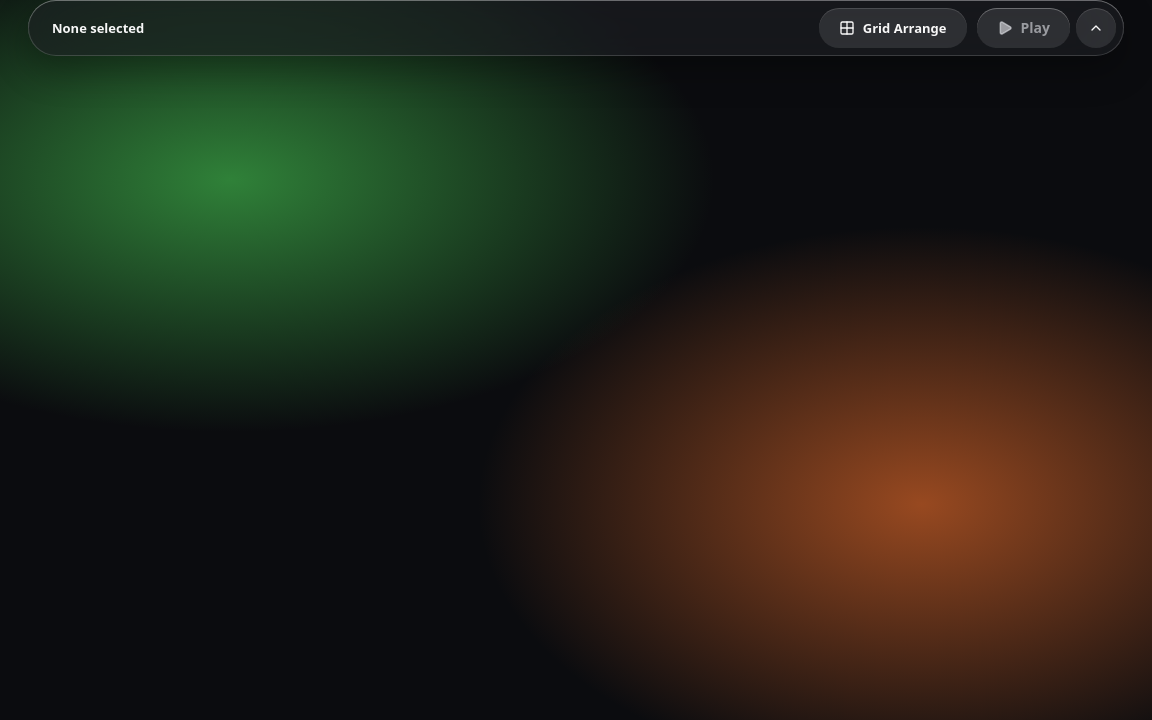
Test: Play once: Escape and outside clicks close it
Click the button named "Play once at…" at coordinates (1096, 28), box [1076, 8, 1116, 48]
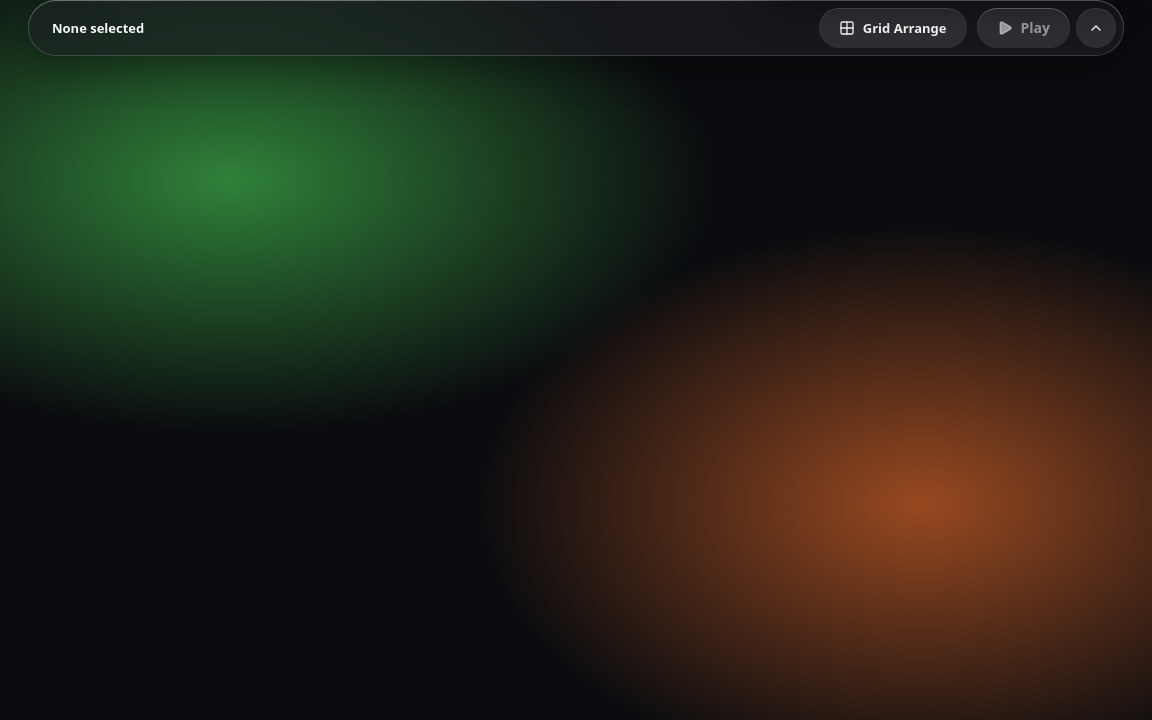
Press Escape
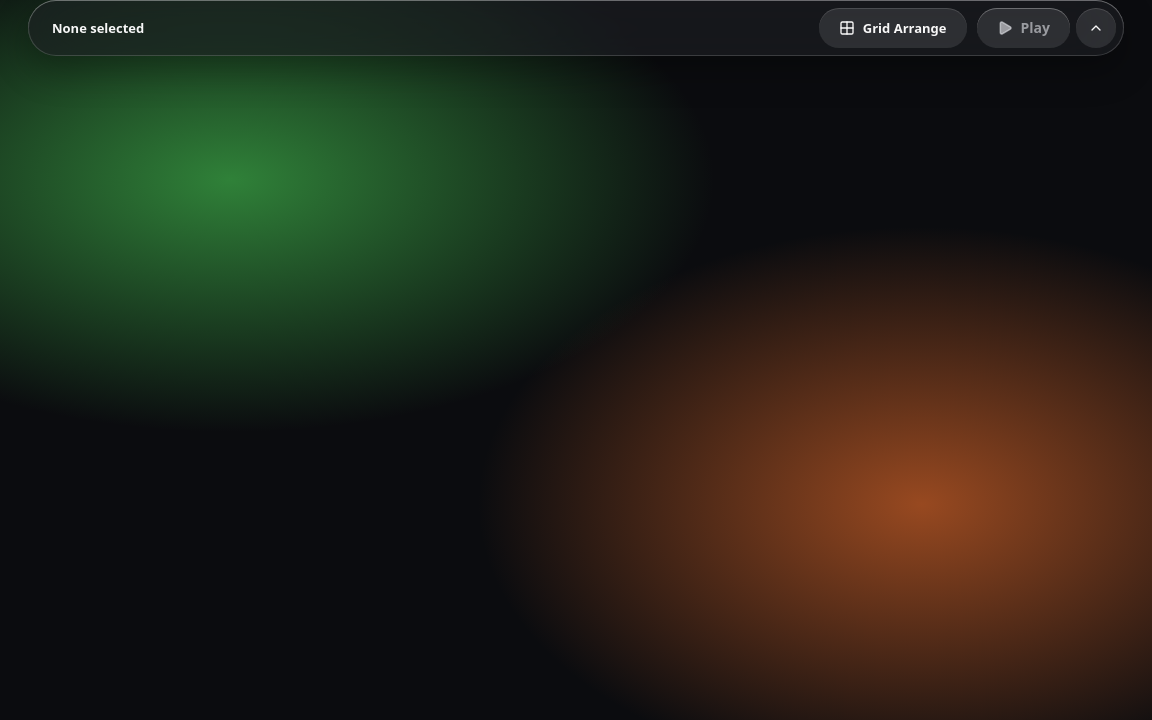
Result: the dialog "Play once at…" is gone
Click the button named "Play once at…" at coordinates (1096, 28), box [1076, 8, 1116, 48]
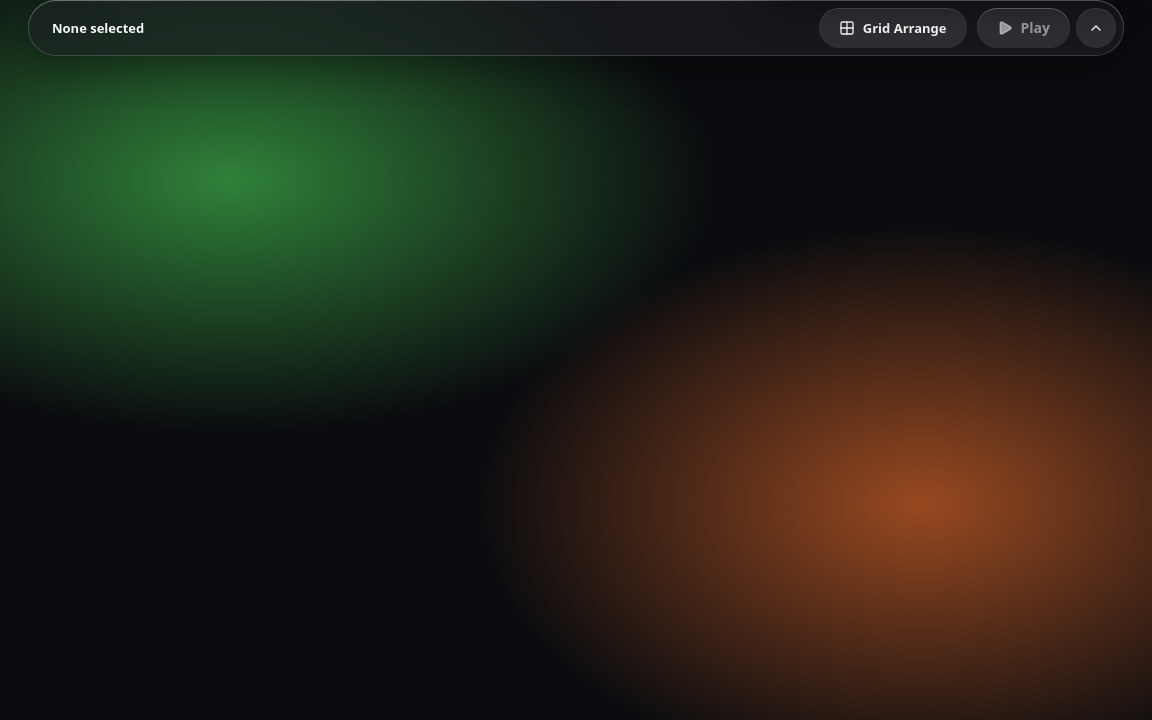
Click the element that starts with "Play once at…" at coordinates (576, 360), box [0, 0, 1151, 719]
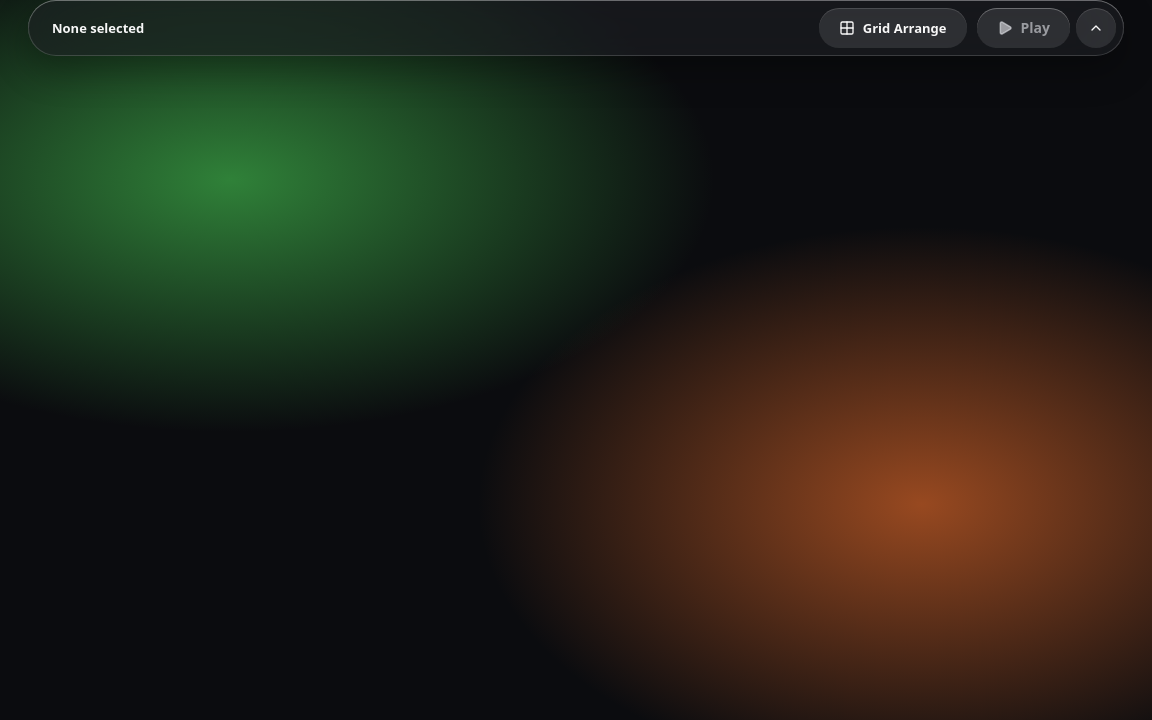
Result: the dialog "Play once at…" is gone
